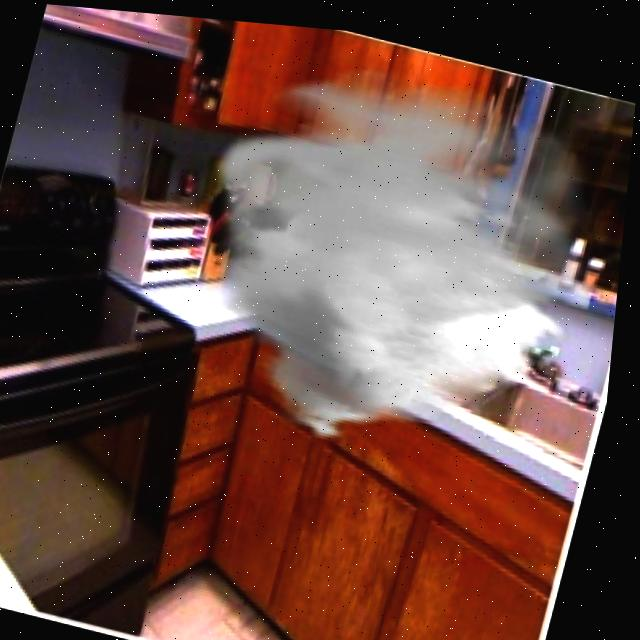Smoke: (158, 26, 635, 486)
